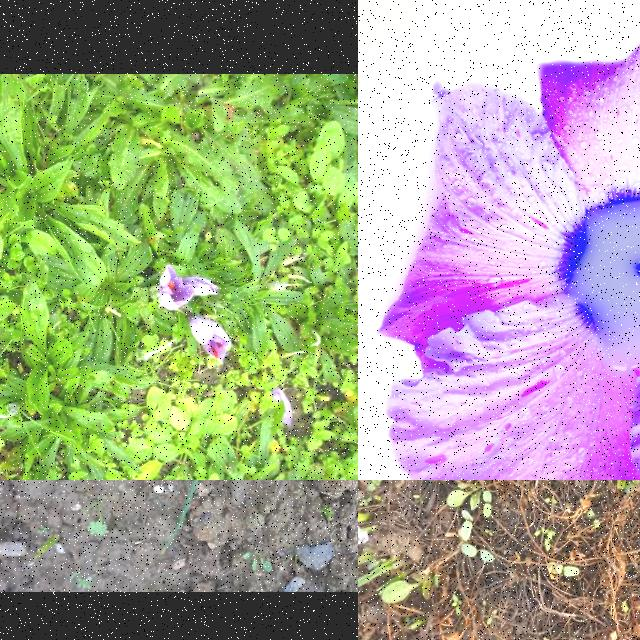flower: (160, 264, 218, 310), (191, 314, 231, 362)
